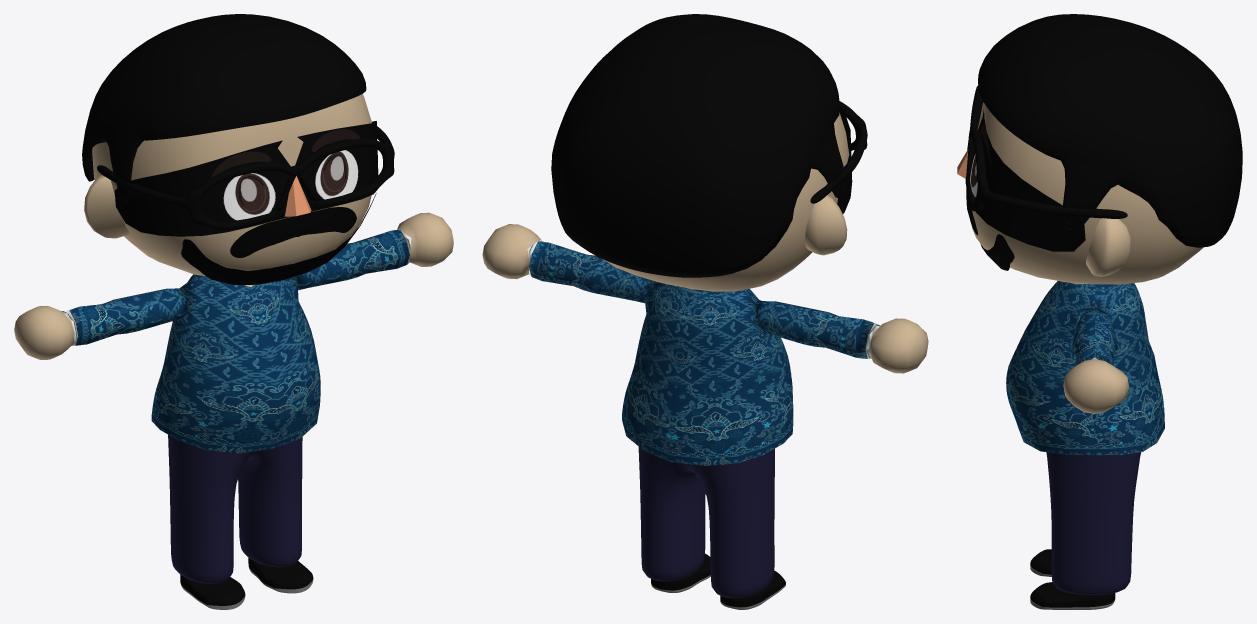
Rendered from Pegawai_T_Pose.fbx.
3 views of the same model, side by side, from view 1: azimuth 30°, elevation 25°; view 2: azimuth 150°, elevation 25°; view 3: azimuth 270°, elevation 25° (orthographic).
Parts seen in each view (by area): view 1: Hand_Cube.004_Material, Rambut.001_Cube.005_Rambut.001_Cube.005mesh.001_Rambut.001, Pants_Cube.002_Material.005, Eyes.001_Cube.006_Mata.001, Head_Cube_Skin_Color, Kacamata_Cube.008_Hitam, Head.001_Cube.005_Material.004, Hand_Cube.004_Skin_Color, Circle_Circle.001_Hitam, Ear_Circle_Skin_Color, Nose_Cube.001_Material.003; view 2: Rambut.001_Cube.005_Rambut.001_Cube.005mesh.001_Rambut.001, Hand_Cube.004_Material, Pants_Cube.002_Material.005, Head_Cube_Skin_Color, Hand_Cube.004_Skin_Color, Ear_Circle_Skin_Color, Circle_Circle.001_Hitam, Kacamata_Cube.008_Hitam, Eyes.001_Cube.006_Mata.001; view 3: Rambut.001_Cube.005_Rambut.001_Cube.005mesh.001_Rambut.001, Hand_Cube.004_Material, Pants_Cube.002_Material.005, Head_Cube_Skin_Color, Eyes.001_Cube.006_Mata.001, Kacamata_Cube.008_Hitam, Hand_Cube.004_Skin_Color, Ear_Circle_Skin_Color, Circle_Circle.001_Hitam, Head.001_Cube.005_Material.004.
Part boxes in pixels (x1,y1,x2,y2): Hand_Cube.004_Material: (69,229,409,453); Rambut.001_Cube.005_Rambut.001_Cube.005mesh.001_Rambut.001: (82,14,366,202); Pants_Cube.002_Material.005: (168,435,302,583); Eyes.001_Cube.006_Mata.001: (114,121,378,236); Head_Cube_Skin_Color: (92,94,371,276); Kacamata_Cube.008_Hitam: (97,126,394,230); Head.001_Cube.005_Material.004: (181,193,376,284); Hand_Cube.004_Skin_Color: (14,212,453,359); Circle_Circle.001_Hitam: (180,558,313,605); Ear_Circle_Skin_Color: (84,175,129,238); Nose_Cube.001_Material.003: (285,176,311,216); Rambut.001_Cube.005_Rambut.001_Cube.005mesh.001_Rambut.001: (551,14,845,277); Hand_Cube.004_Material: (528,241,873,465); Pants_Cube.002_Material.005: (638,447,774,598); Head_Cube_Skin_Color: (603,112,849,291); Hand_Cube.004_Skin_Color: (482,224,928,373); Ear_Circle_Skin_Color: (805,195,847,255); Circle_Circle.001_Hitam: (651,553,785,607); Kacamata_Cube.008_Hitam: (810,101,867,203); Eyes.001_Cube.006_Mata.001: (837,106,852,213); Rambut.001_Cube.005_Rambut.001_Cube.005mesh.001_Rambut.001: (978,14,1242,247); Hand_Cube.004_Material: (1006,281,1164,455); Pants_Cube.002_Material.005: (1046,452,1141,595); Head_Cube_Skin_Color: (972,102,1203,284); Eyes.001_Cube.006_Mata.001: (969,100,1085,251); Kacamata_Cube.008_Hitam: (965,85,1127,218); Hand_Cube.004_Skin_Color: (1061,281,1129,413); Ear_Circle_Skin_Color: (1086,218,1130,276); Circle_Circle.001_Hitam: (1030,549,1115,607); Head.001_Cube.005_Material.004: (966,188,1014,270).
Size of the model in its own units: 151 by 186 by 87.17.
